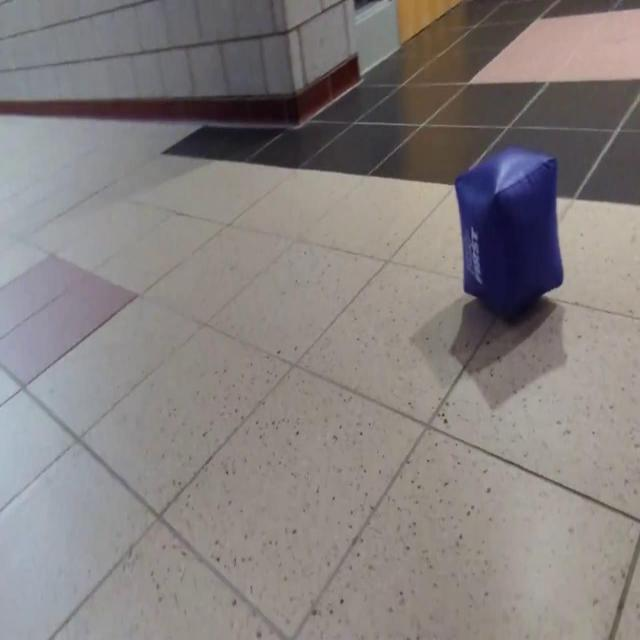frc_cube: (452, 144, 562, 323)
